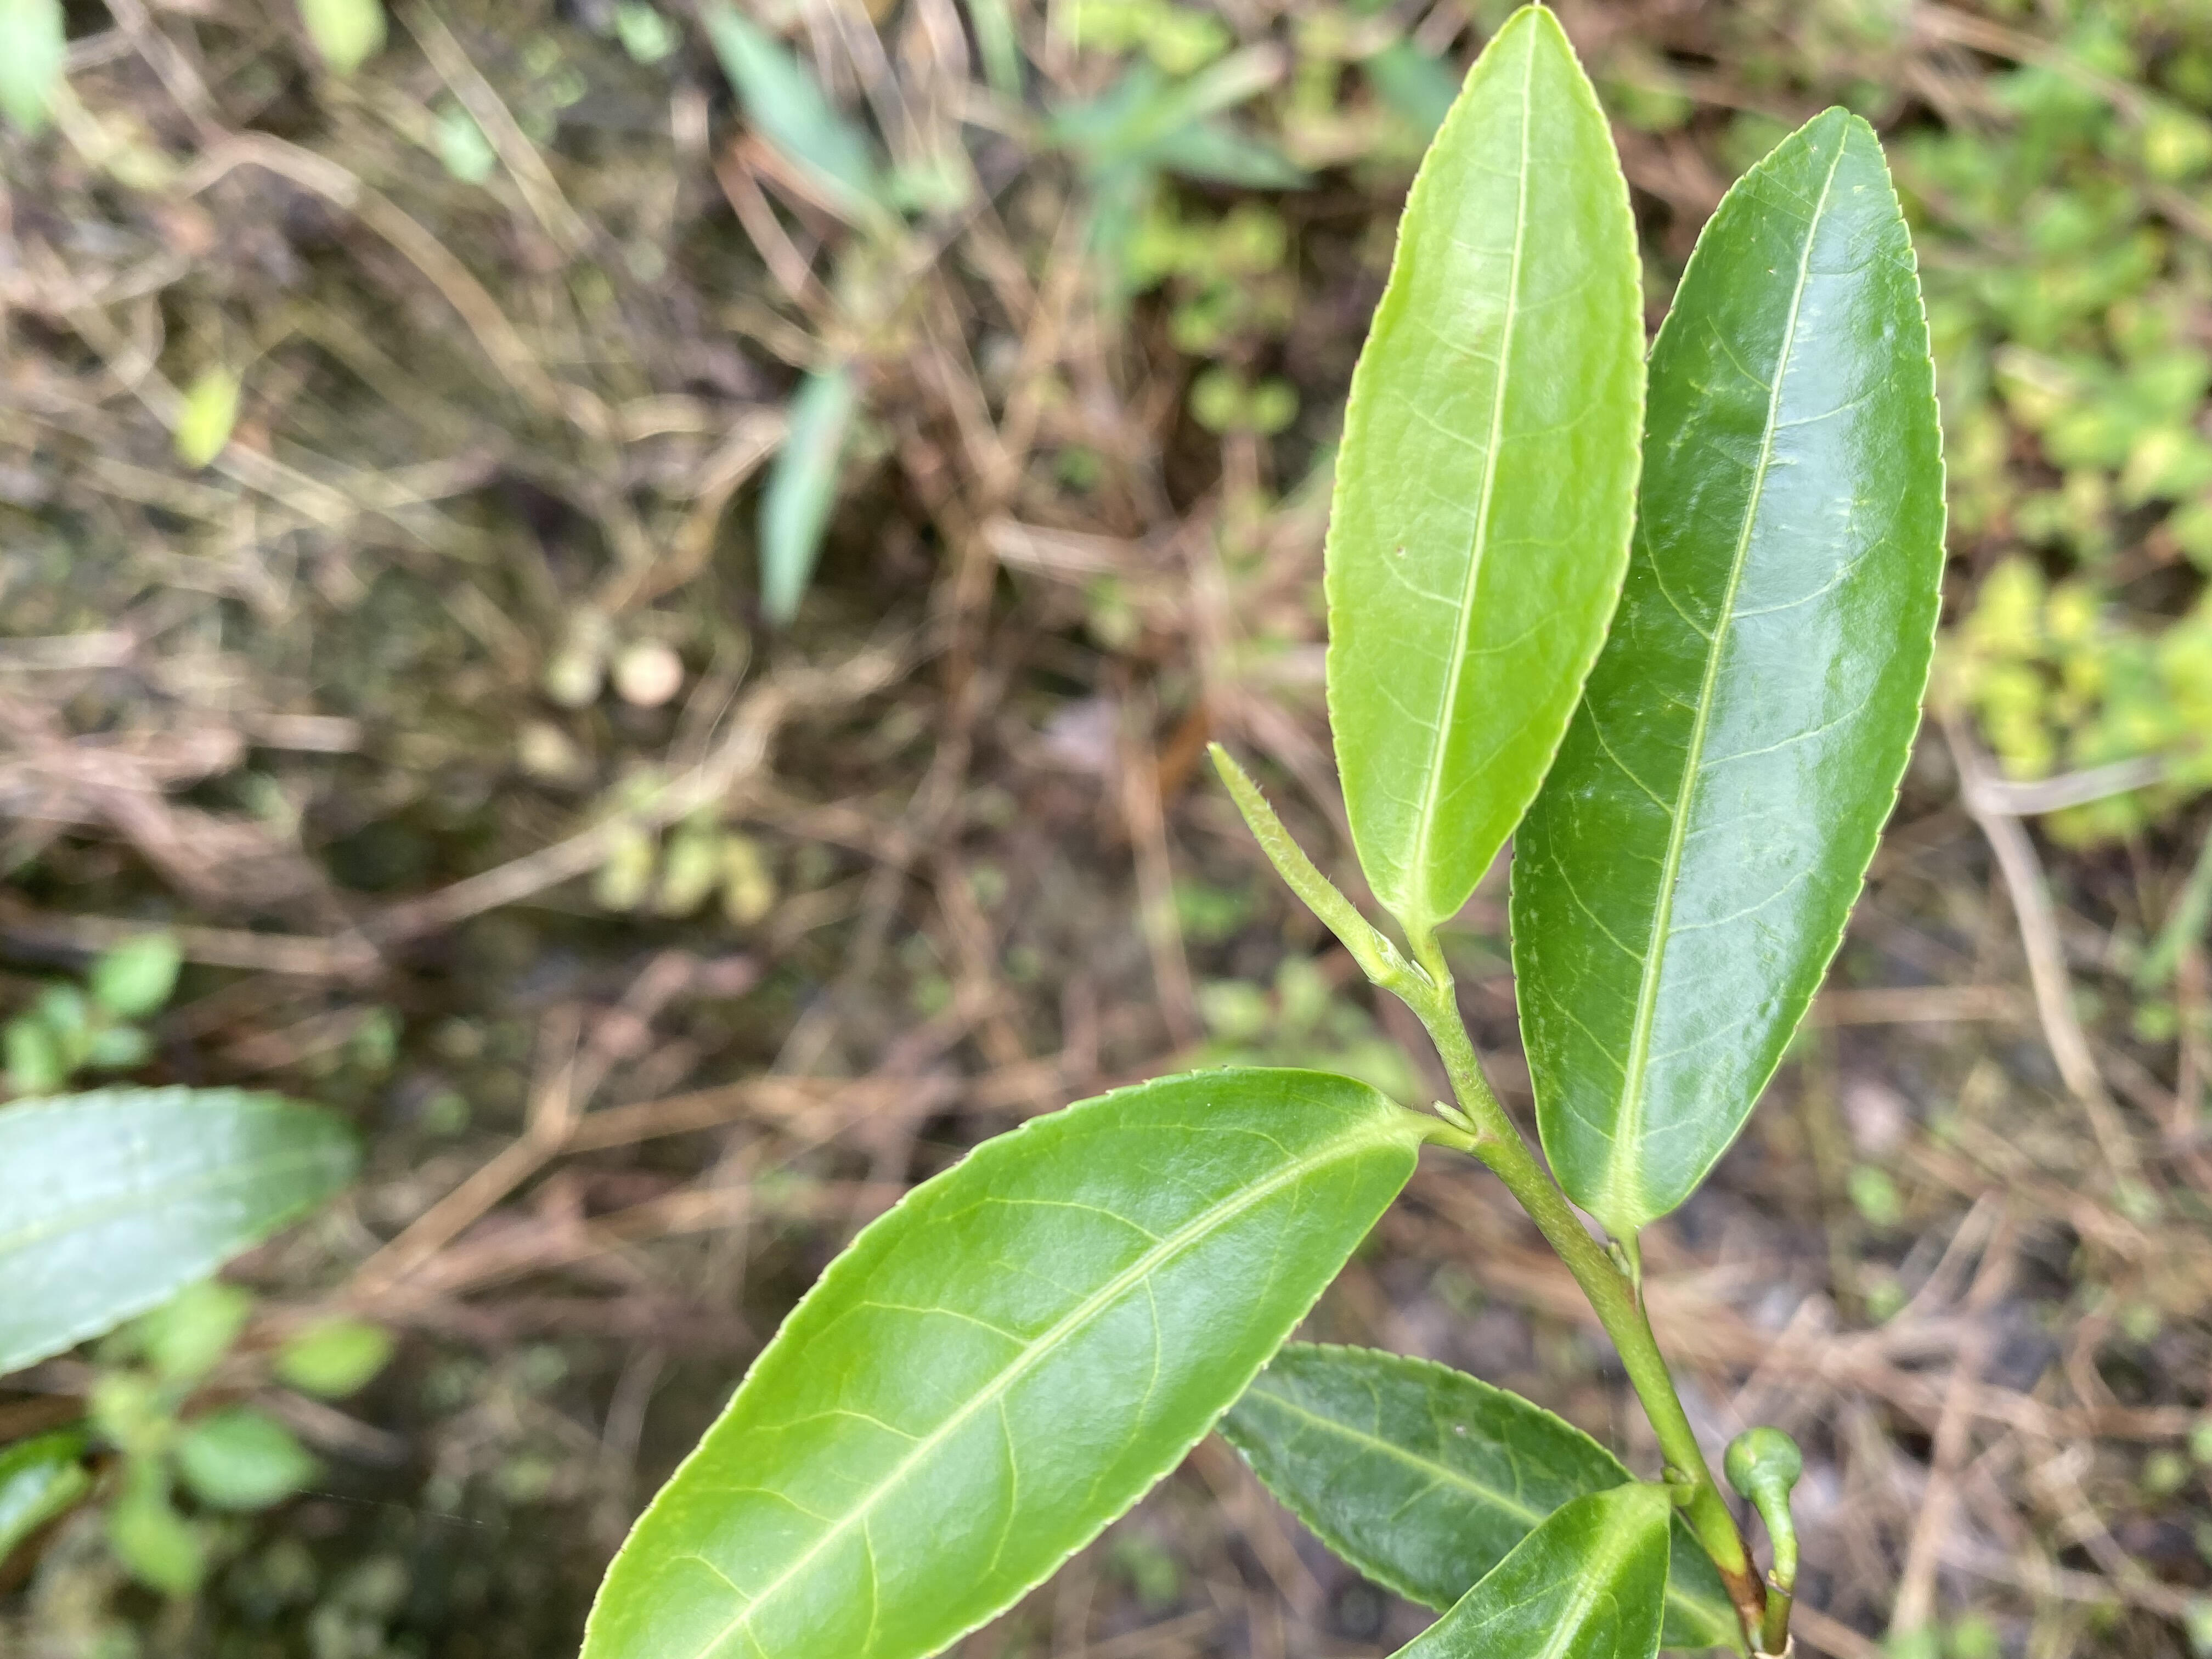healthy: (571, 1063, 1423, 1657), (1507, 101, 1951, 1236), (1320, 5, 1651, 934)
